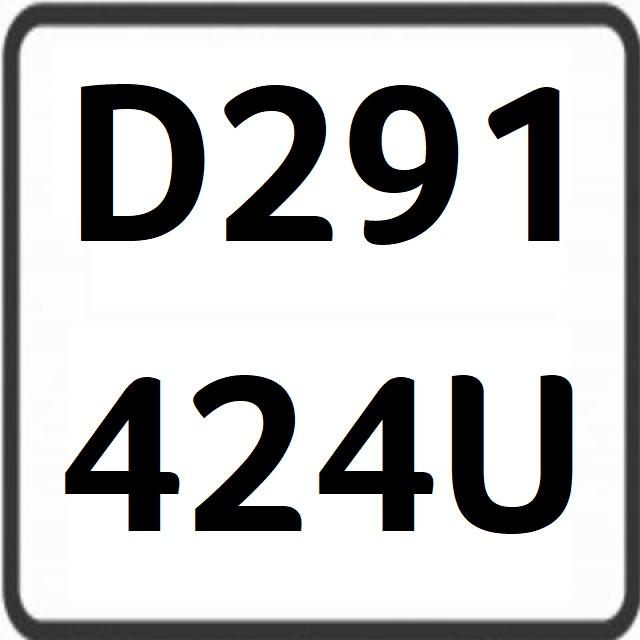2: (192, 359, 308, 556)
4: (64, 346, 182, 540), (321, 344, 434, 545)
9: (346, 59, 464, 260)
D: (71, 72, 209, 264)
U: (448, 341, 578, 537)
